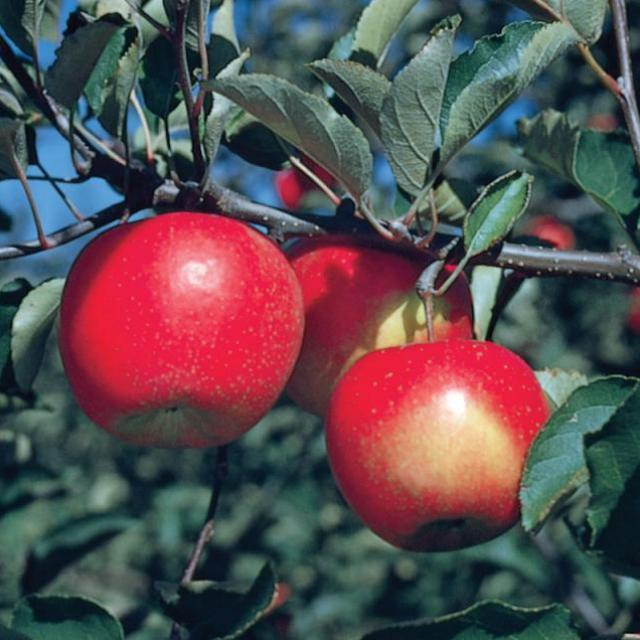apple: (62, 207, 308, 453), (326, 340, 558, 554), (258, 230, 486, 436)
